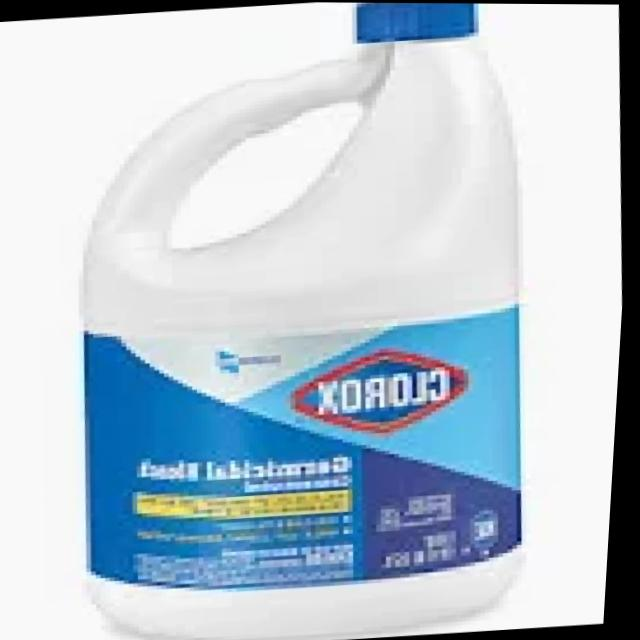Botella: (35, 1, 569, 640)
